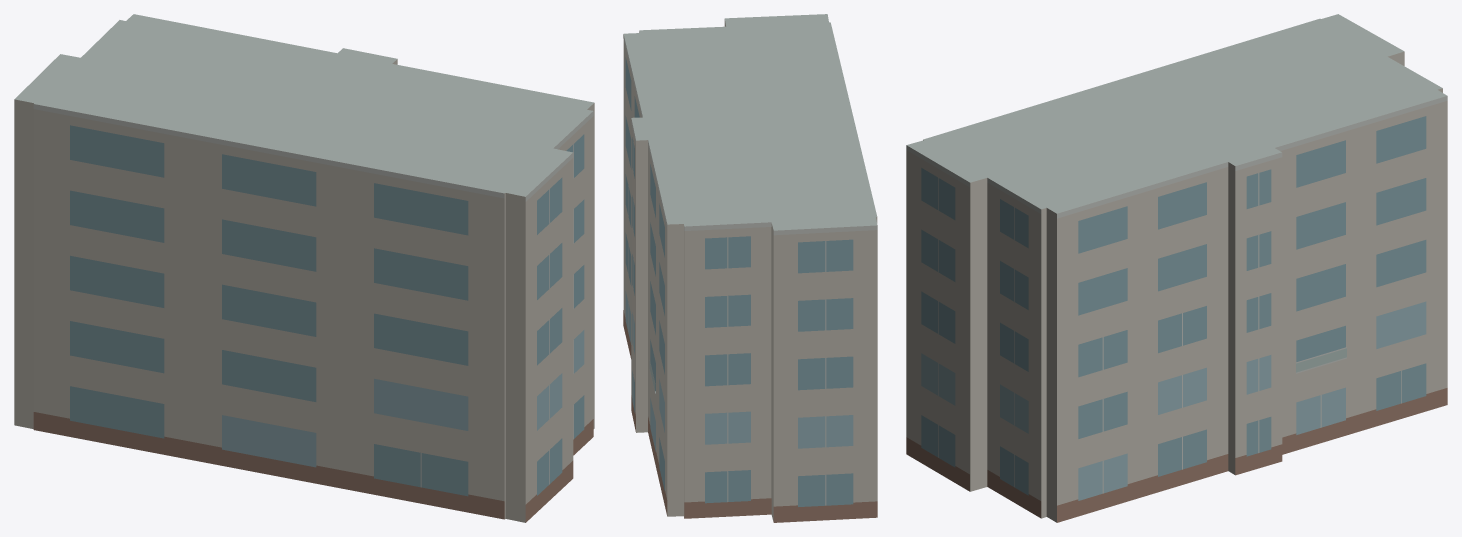
File: survey-upis-32658353.glb
The picture shows the model from 3 angles, left to right: view 1: azimuth 30°, elevation 25°; view 2: azimuth 150°, elevation 25°; view 3: azimuth 270°, elevation 25°; orthographic projection. The views are drawn at different scales.
Parts seen in each view (by area): view 1: survey-upis-32658353.tmp; view 2: survey-upis-32658353.tmp; view 3: survey-upis-32658353.tmp.
Boxes of the visible parts, x1=… form: survey-upis-32658353.tmp: x1=14, y1=14, x2=594, y2=522; survey-upis-32658353.tmp: x1=623, y1=14, x2=877, y2=522; survey-upis-32658353.tmp: x1=906, y1=14, x2=1447, y2=522.
Bounding box in the file's own units: 21.51 × 15.51 × 24.61.
